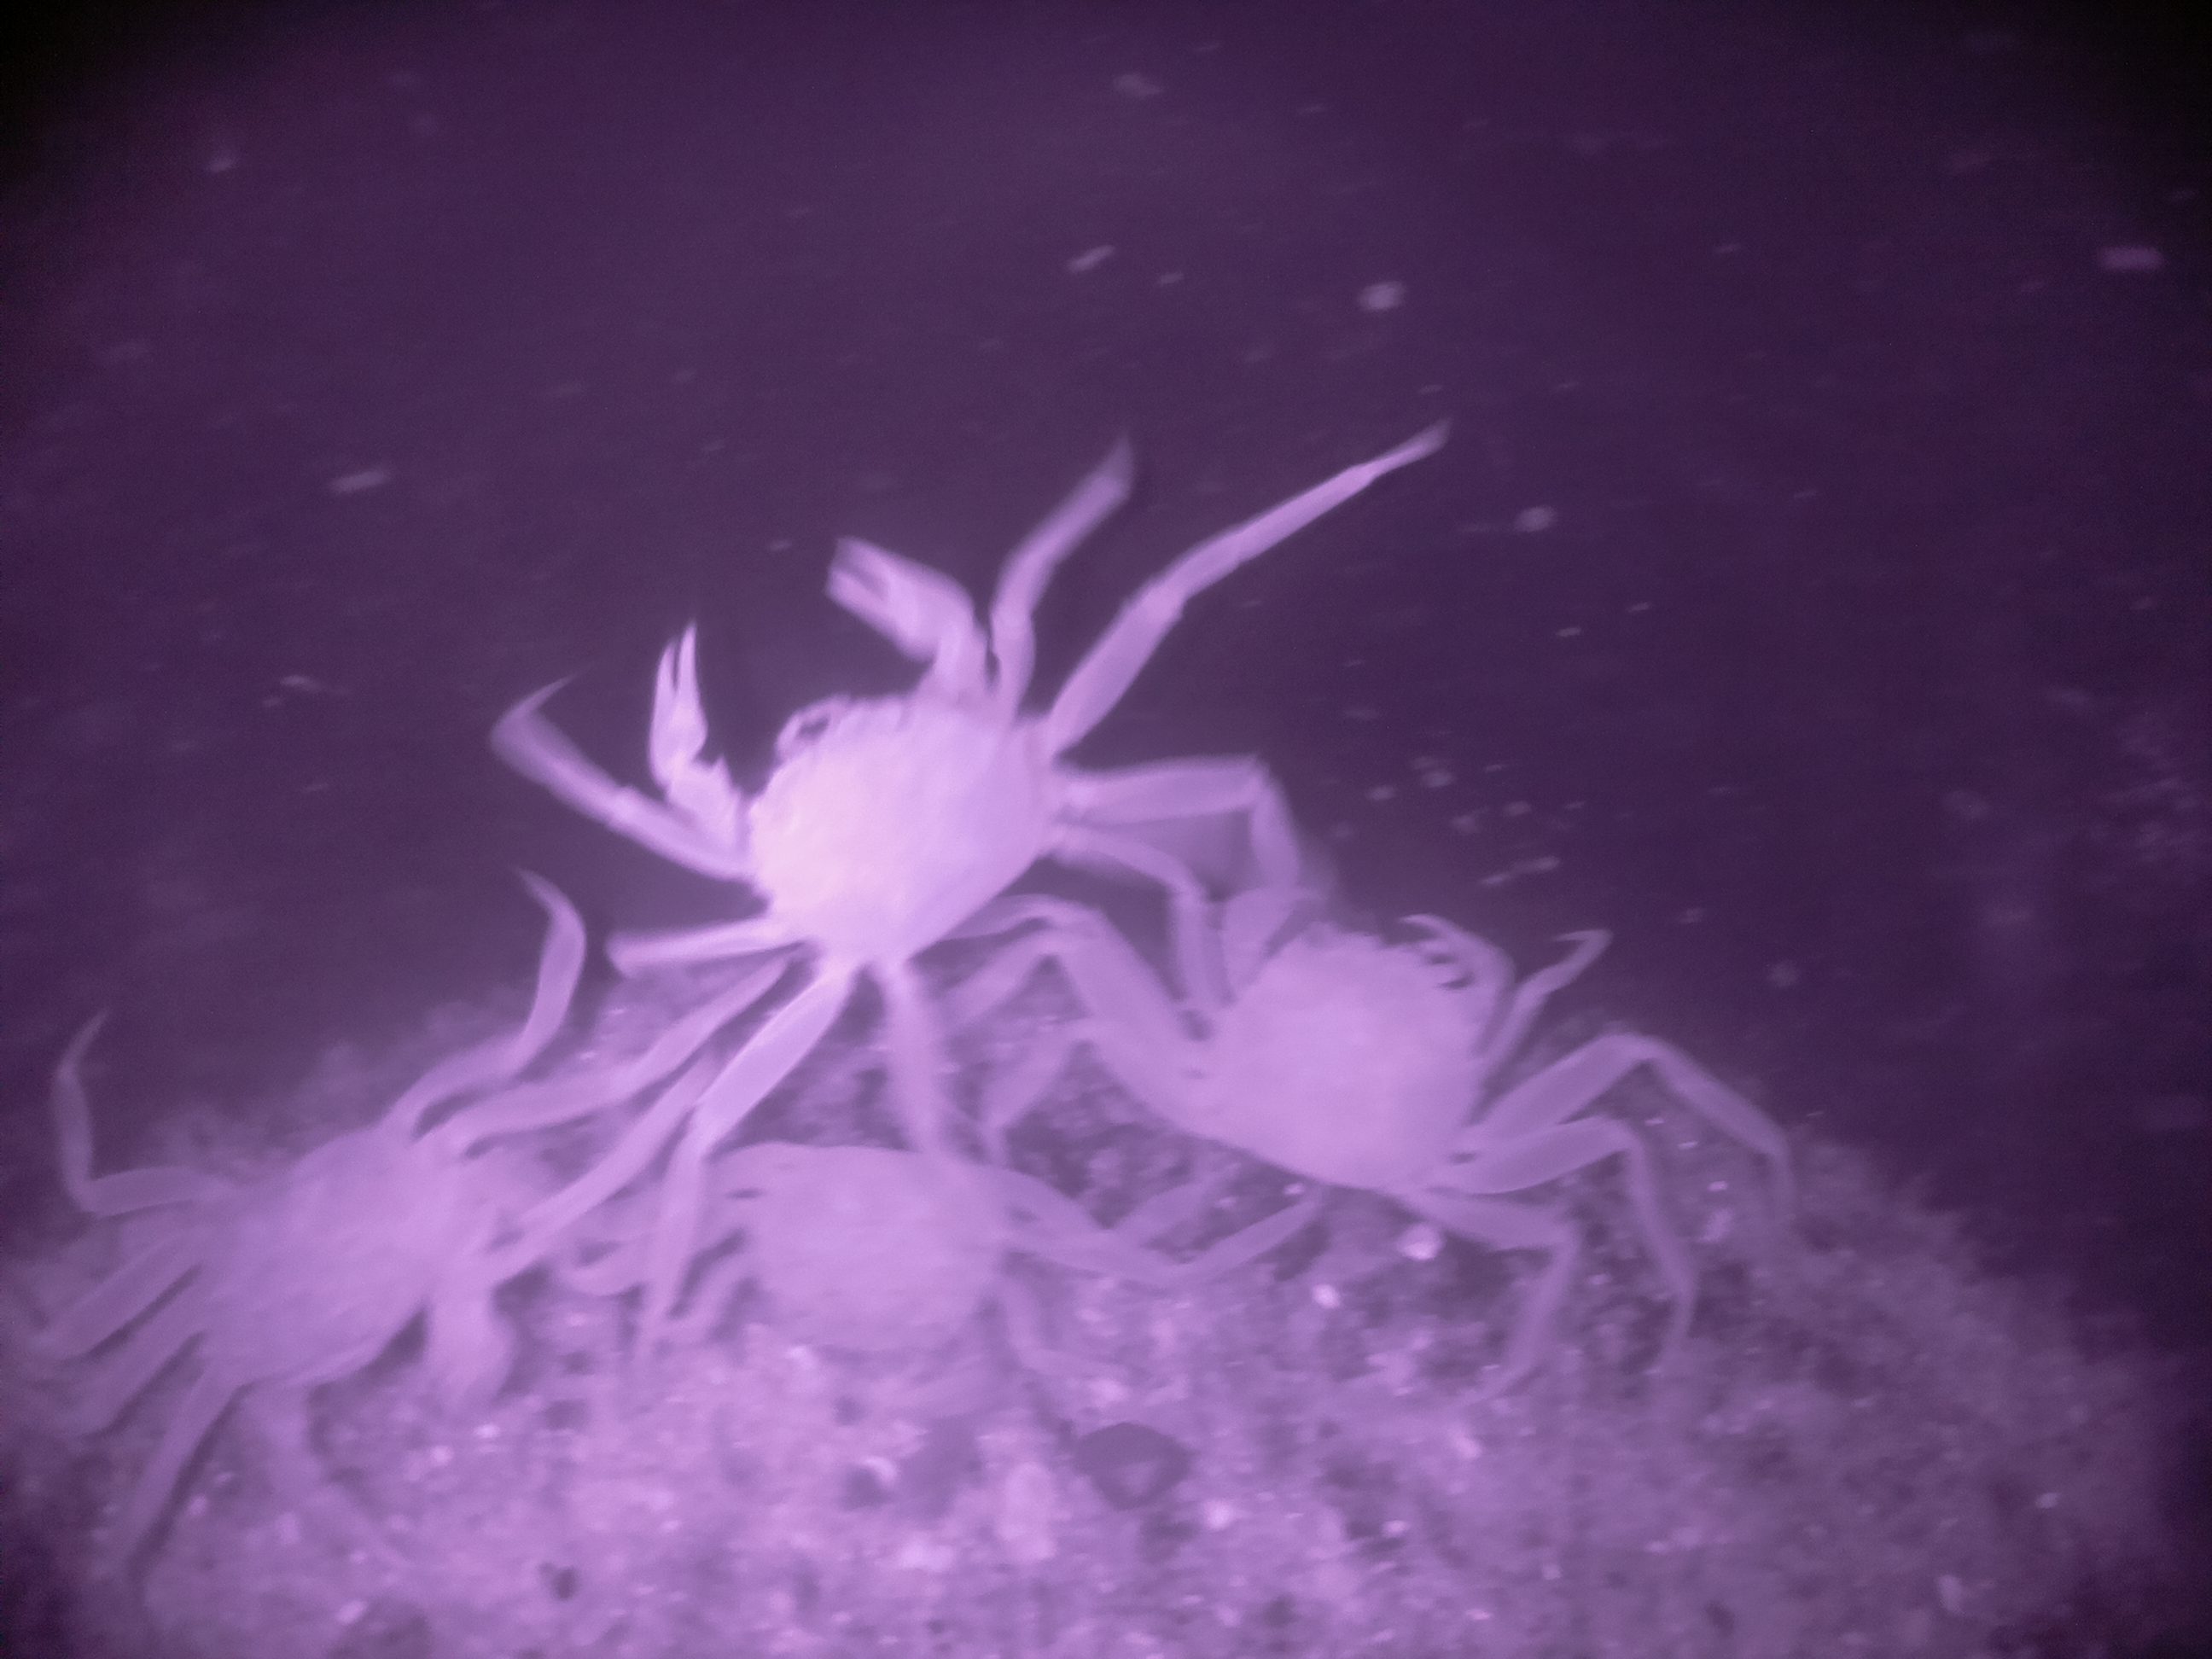Crab: (510, 509, 1228, 1000), (40, 1039, 603, 1544), (1127, 751, 1569, 1303)
